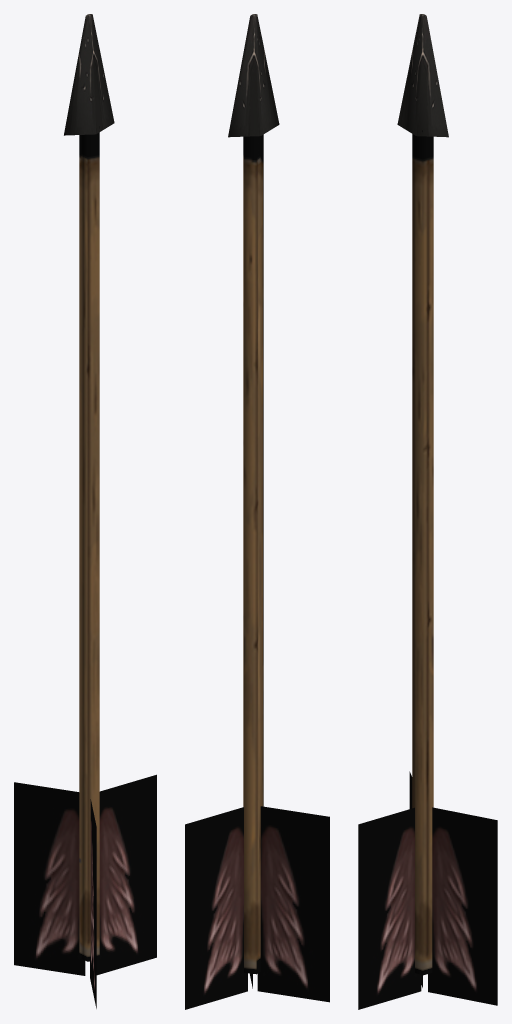
File: Arrow.FBX
3 views of the same model, side by side, from view 1: azimuth 30°, elevation 25°; view 2: azimuth 210°, elevation 25°; view 3: azimuth 330°, elevation 25° (orthographic).
Visible parts, largest first — view 1: Cone001; view 2: Cone001; view 3: Cone001.
Part boxes in pixels (x1,y1,x2,y2): Cone001: [14, 14, 156, 1008]; Cone001: [185, 14, 329, 1009]; Cone001: [358, 14, 497, 1009].
Size of the model in its own units: 3.55 by 28.45 by 3.57.
1 material, 1 textured.
